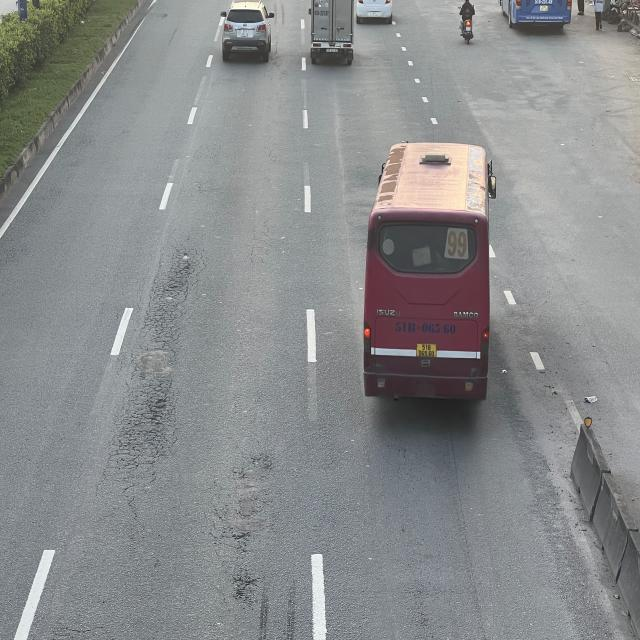car: (221, 0, 277, 61), (355, 0, 396, 24)
coach: (365, 146, 497, 410)
truck: (310, 0, 357, 59)
